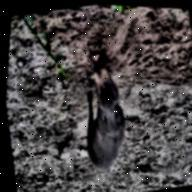boar: (60, 35, 160, 176)
